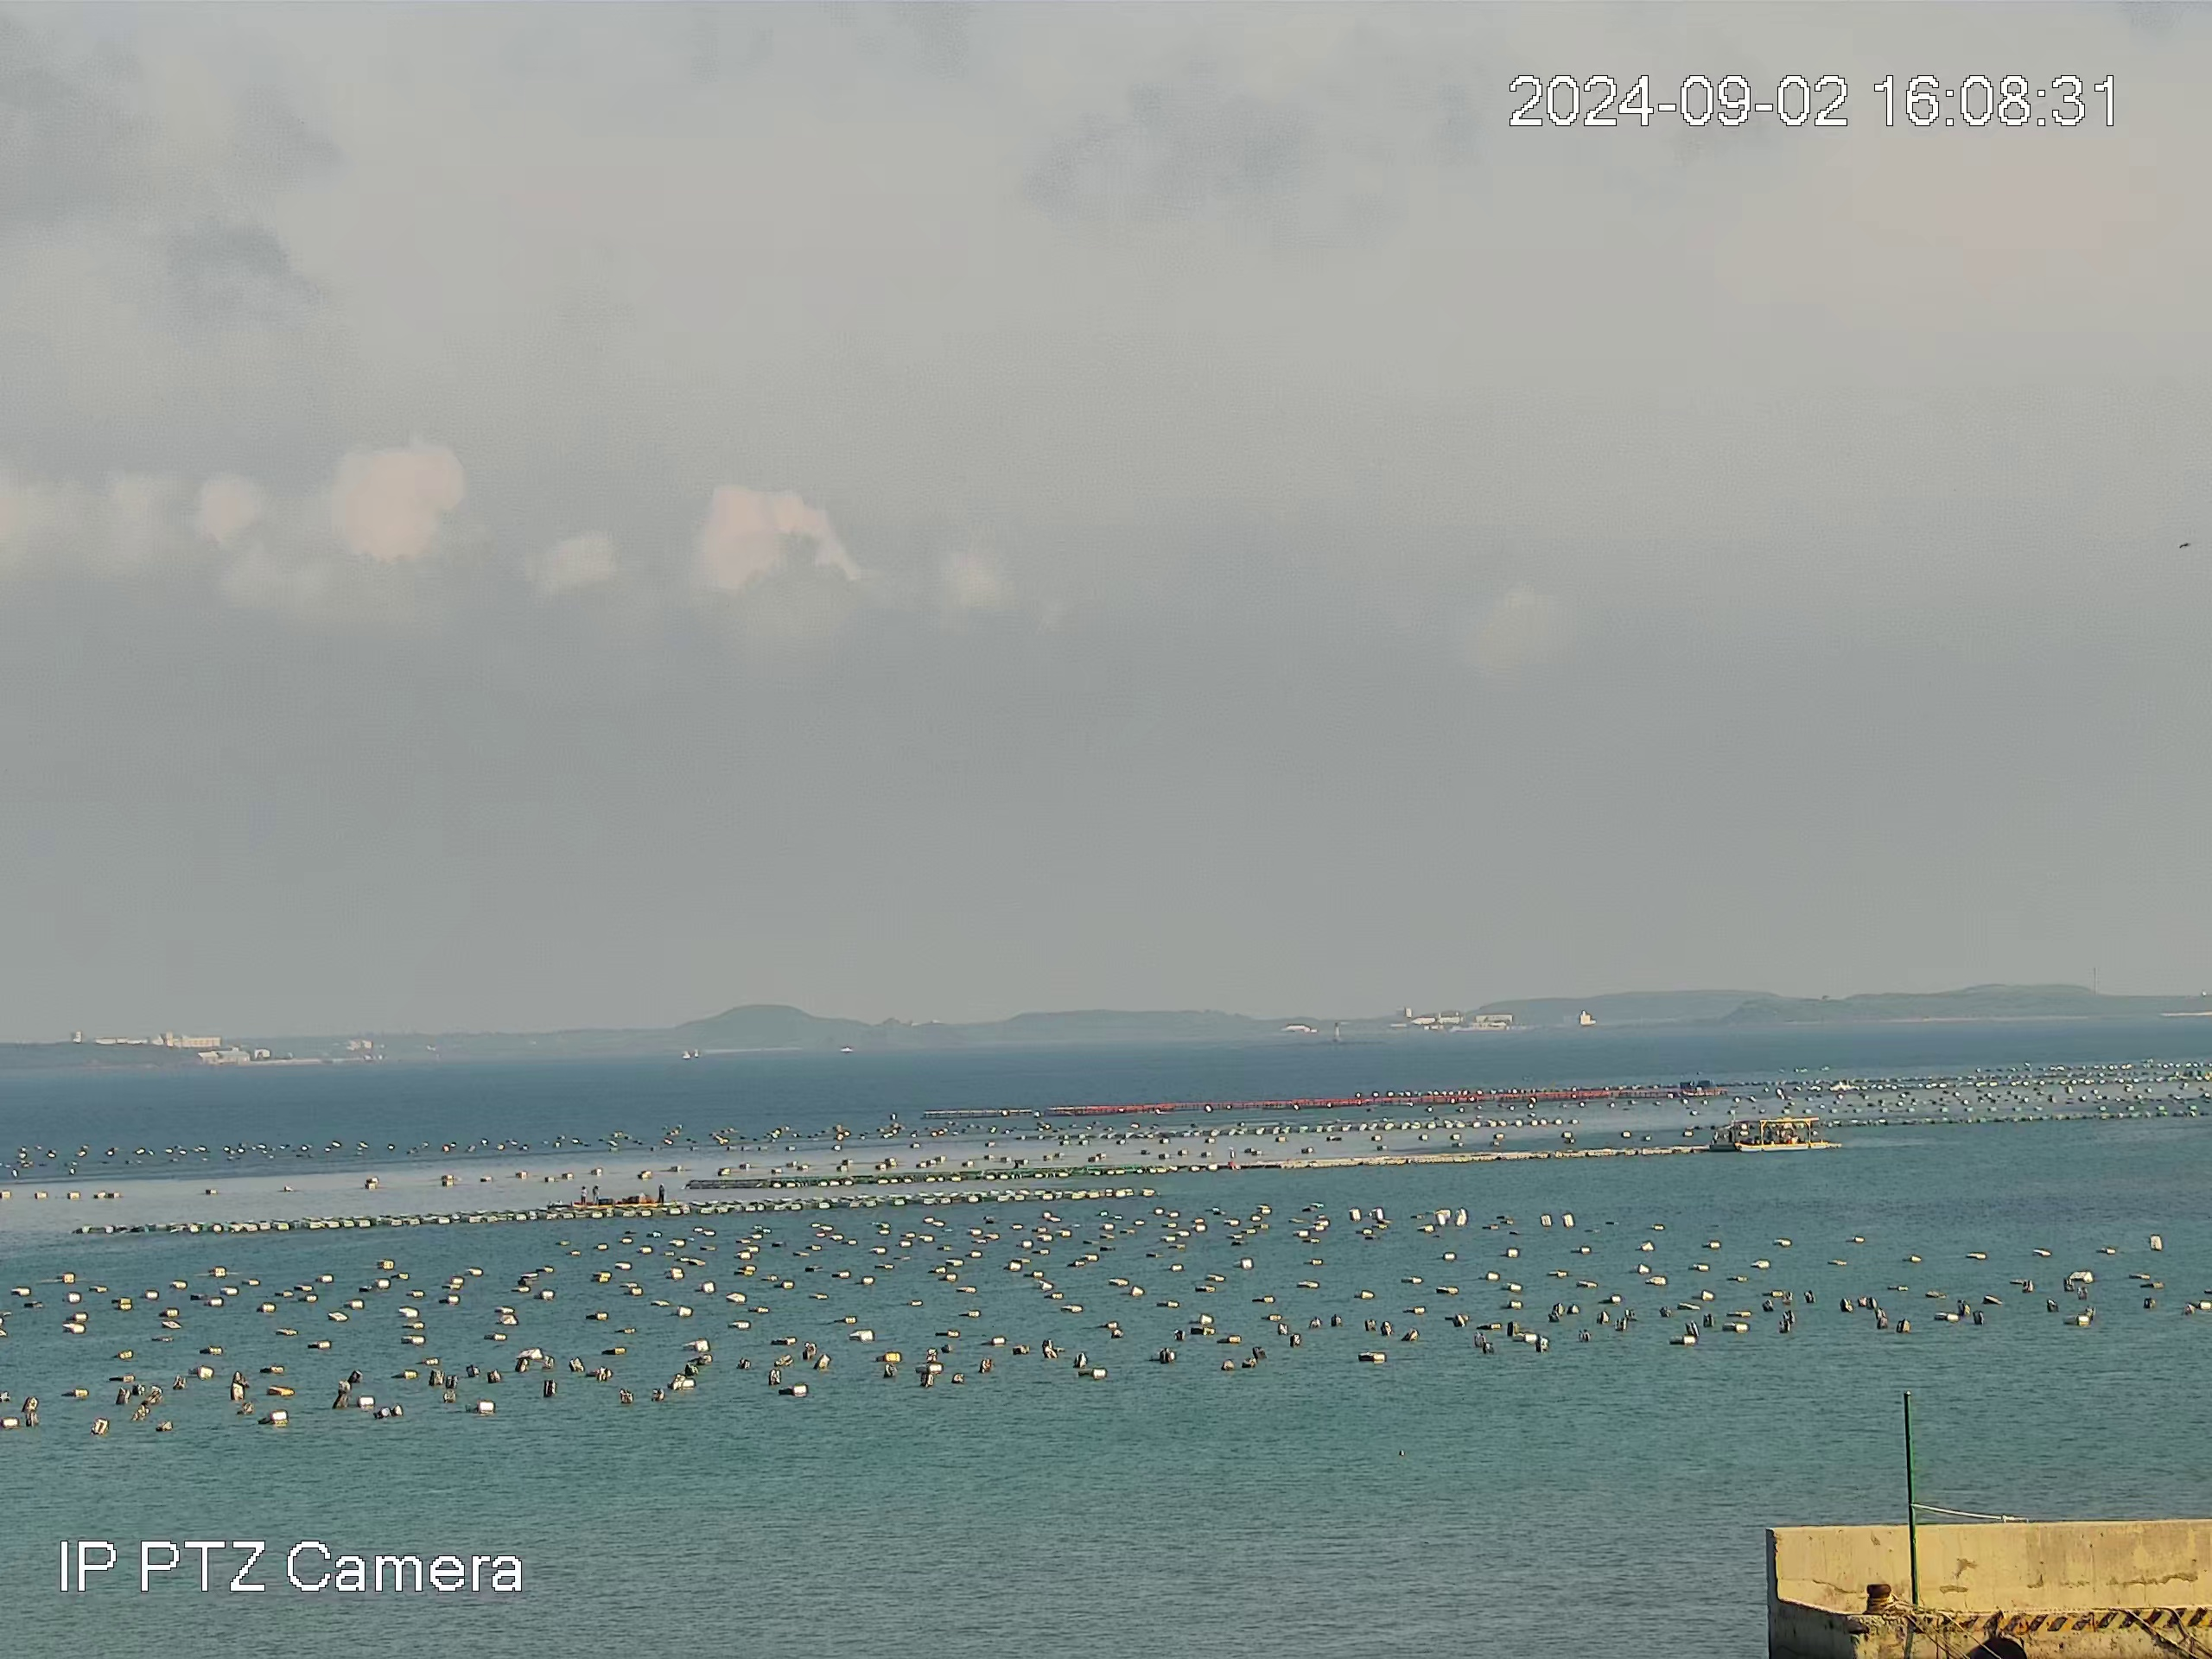boat: (1733, 1116, 1827, 1154), (569, 1184, 658, 1209)
